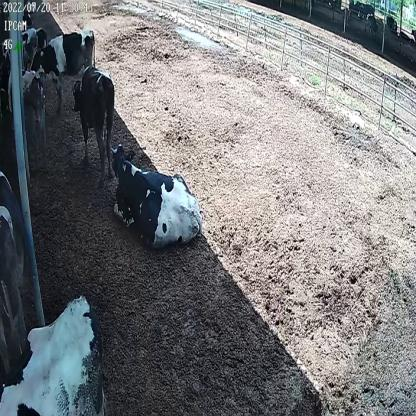cow: (105, 136, 205, 250), (29, 26, 98, 119), (70, 66, 116, 182)
